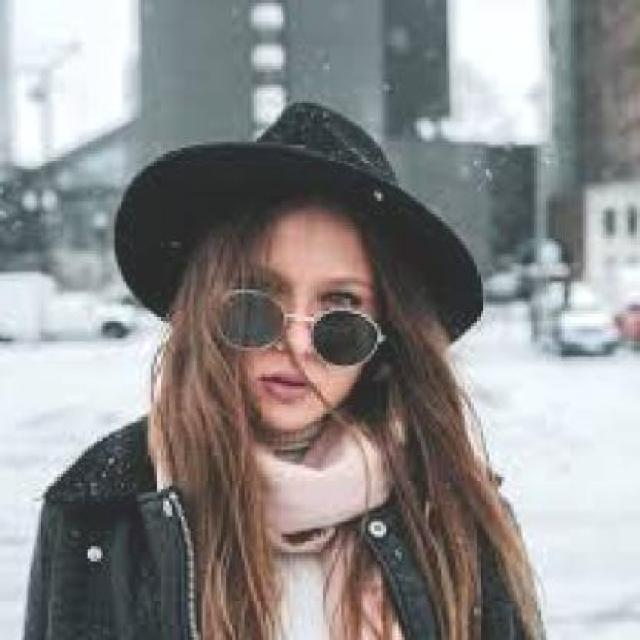mask: (198, 266, 394, 386)
